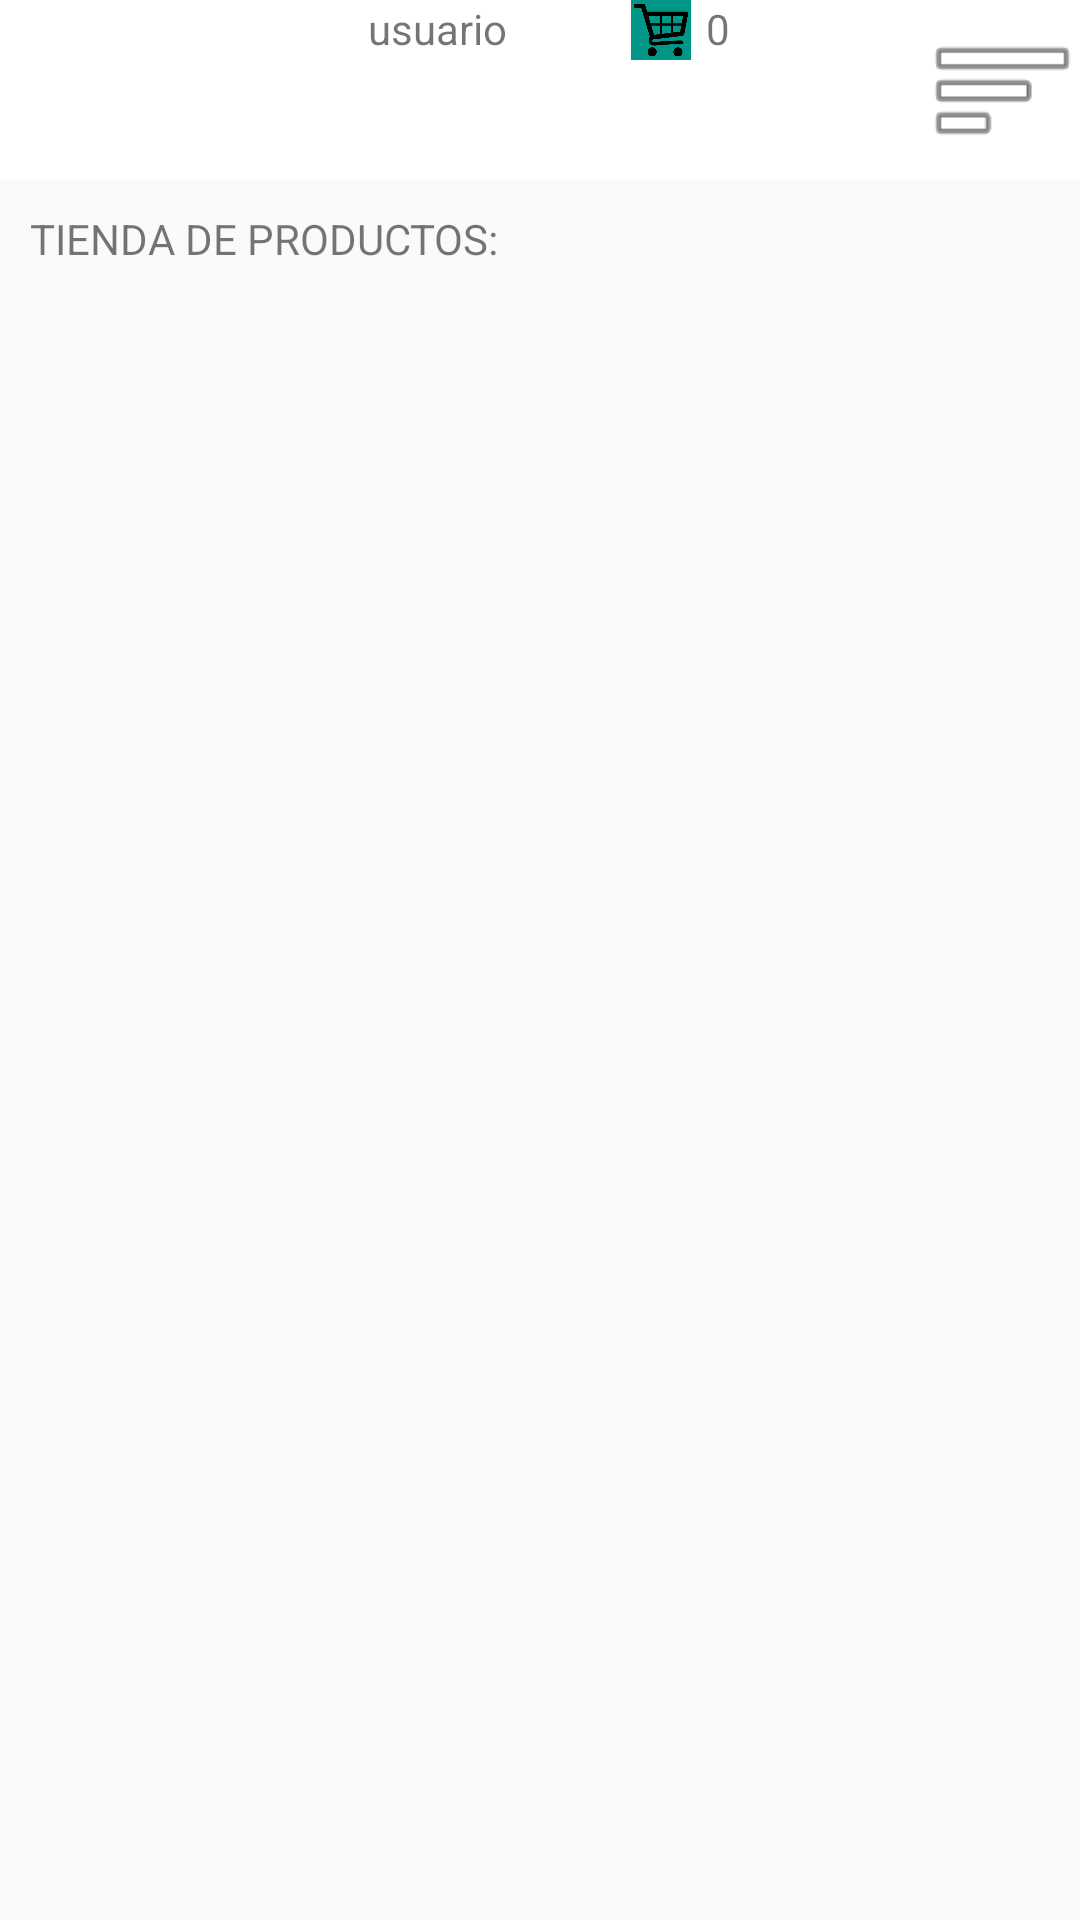

Icon click points for this 1080 × 1920 phone screenshot, format (x,y):
carrito: (661,30)
sort by size: (1002,90)
